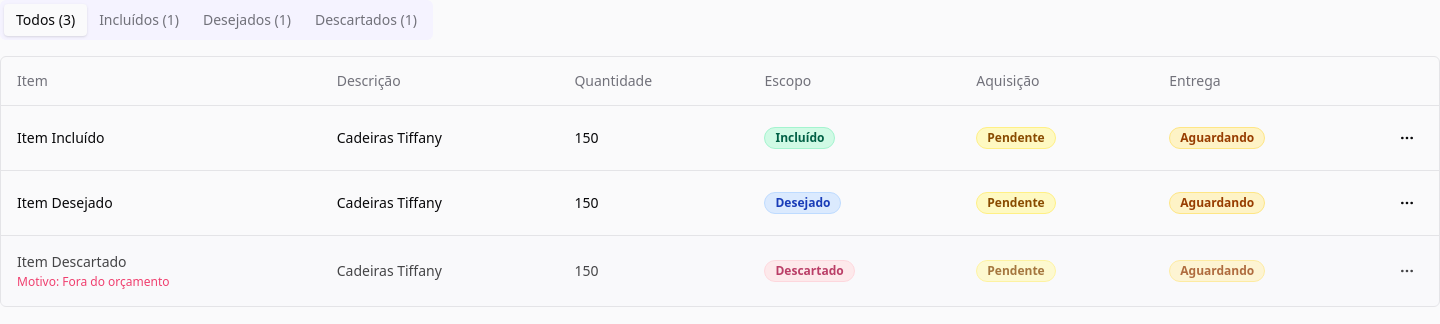
WeddingItemsTable › filters items by scope tabs
This screenshot has width=1440, height=324.
Expected: the text "Item Incluído" is shown, [17,128,104,146]
Expected: the text "Item Desejado" is shown, [17,192,113,212]
Click "Desejados"
What coordinates should you click on to do the following:
click the tab "Desejados (1)"
I would click on:
 (247, 20)
Its box is [191,4,303,36].
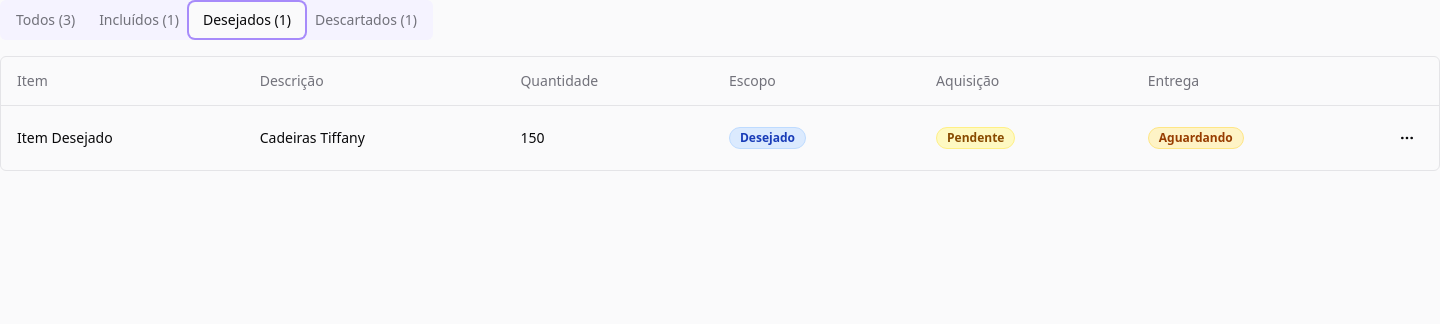
Expected: the text "Item Desejado" is shown, [17,128,113,146]
Result: the text "Item Incluído" is gone
Result: the text "Item Descartado" is gone
Click "Descartados"
What coordinates should you click on to do the following:
click the tab "Descartados (1)"
I would click on:
 (366, 20)
Its box is [303,4,429,36].
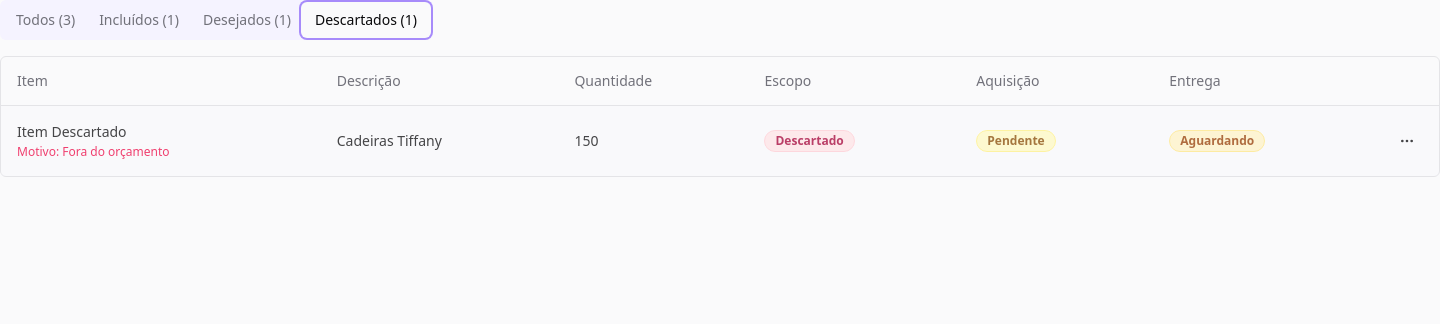
Result: the text "Item Desejado" is gone
Result: the text "Item Descartado" is shown at [17,122,127,140]
Result: the text "Motivo: Fora do orçamento" is shown at [17,142,170,160]
